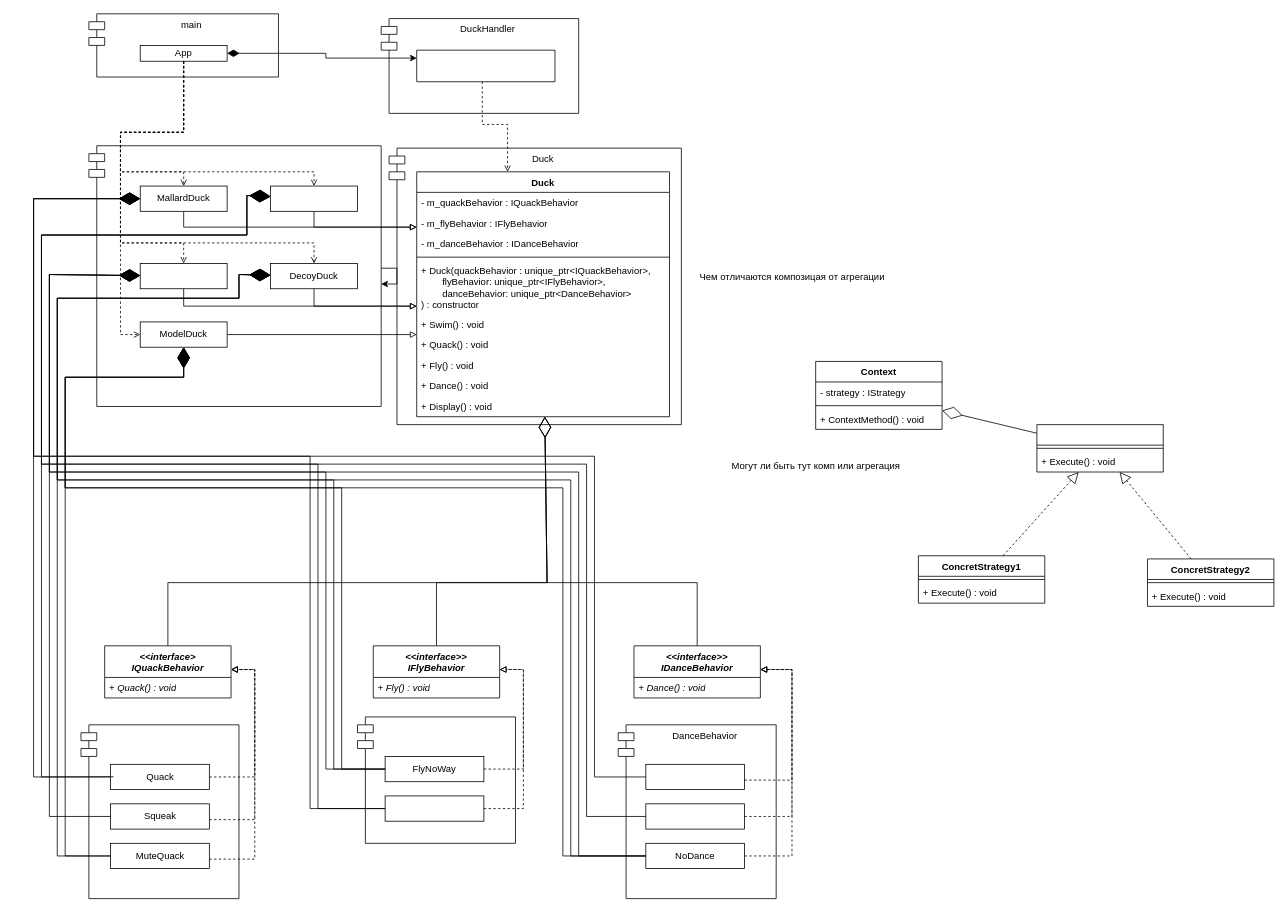
This 1288x912 diagram has some shape labels left out. The box of each missing label's shape, as (x1, y1, x2, y2) in pixels:
FlyBehavior: (357, 716, 515, 843)
FlyWithWings: (384, 795, 484, 821)
HandleDuck(duck : Duck) : void: (416, 49, 555, 82)
IStrategy: (1036, 424, 1163, 472)
Minuet: (645, 803, 745, 829)
QuaсkBehavior: (80, 724, 239, 899)
RedheadDuck: (270, 185, 357, 211)
RubberDuck: (139, 263, 227, 289)
SamplesDuck: (88, 145, 381, 406)
Waltz: (645, 764, 745, 790)
